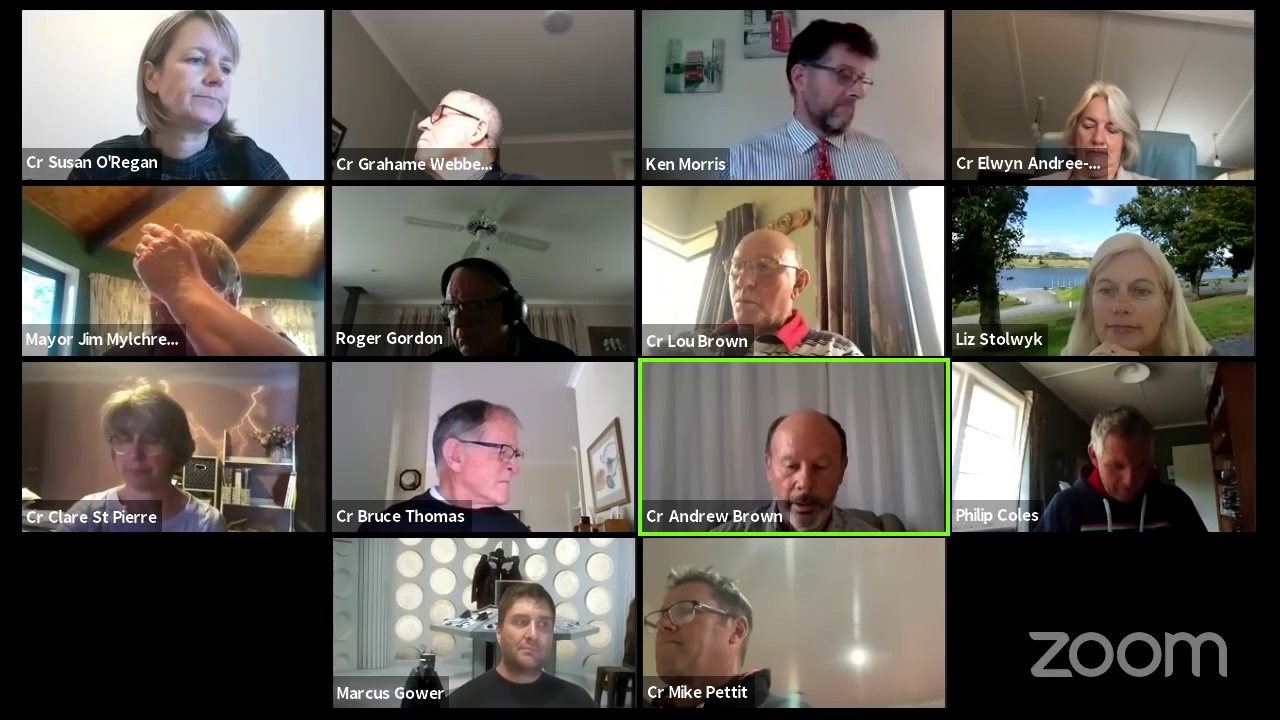Distracted: (129, 234, 230, 341), (431, 400, 527, 506), (145, 21, 235, 124), (783, 25, 871, 126), (767, 420, 851, 517), (658, 565, 727, 678), (101, 397, 186, 485), (435, 271, 525, 351), (1062, 87, 1138, 166), (420, 97, 502, 170), (1088, 421, 1158, 500)
Not Distracted: (1076, 250, 1180, 339), (721, 237, 804, 333), (490, 584, 565, 675)
